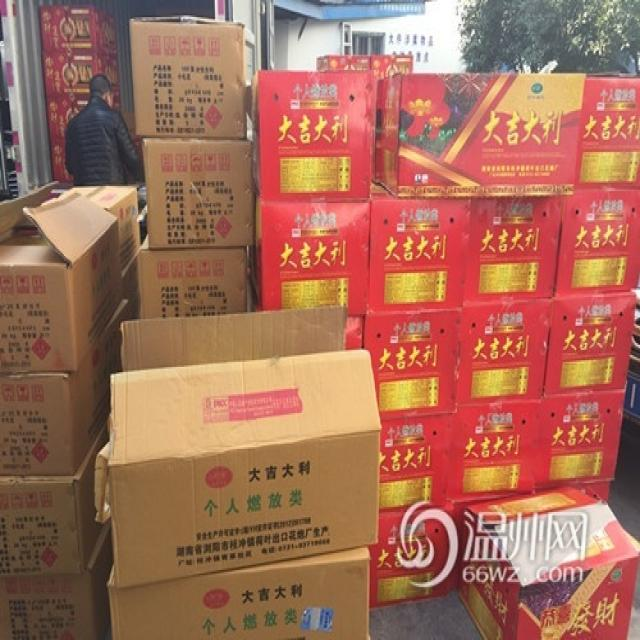box: (108, 305, 380, 592), (457, 488, 640, 640), (375, 73, 586, 198), (108, 546, 370, 640), (0, 294, 132, 476), (0, 181, 123, 372), (0, 406, 110, 579), (251, 68, 374, 203), (252, 189, 370, 316), (129, 15, 247, 140), (366, 181, 470, 316), (0, 519, 113, 640), (142, 138, 255, 253), (461, 195, 564, 307), (362, 307, 461, 422), (456, 299, 553, 406), (449, 398, 544, 507), (543, 290, 636, 398), (534, 389, 626, 495), (140, 232, 248, 321), (554, 189, 640, 299), (367, 509, 451, 611), (380, 413, 456, 515), (575, 79, 640, 189), (74, 186, 141, 271), (449, 503, 467, 594), (316, 55, 371, 70), (343, 316, 364, 352), (371, 55, 399, 82), (396, 56, 412, 77)
